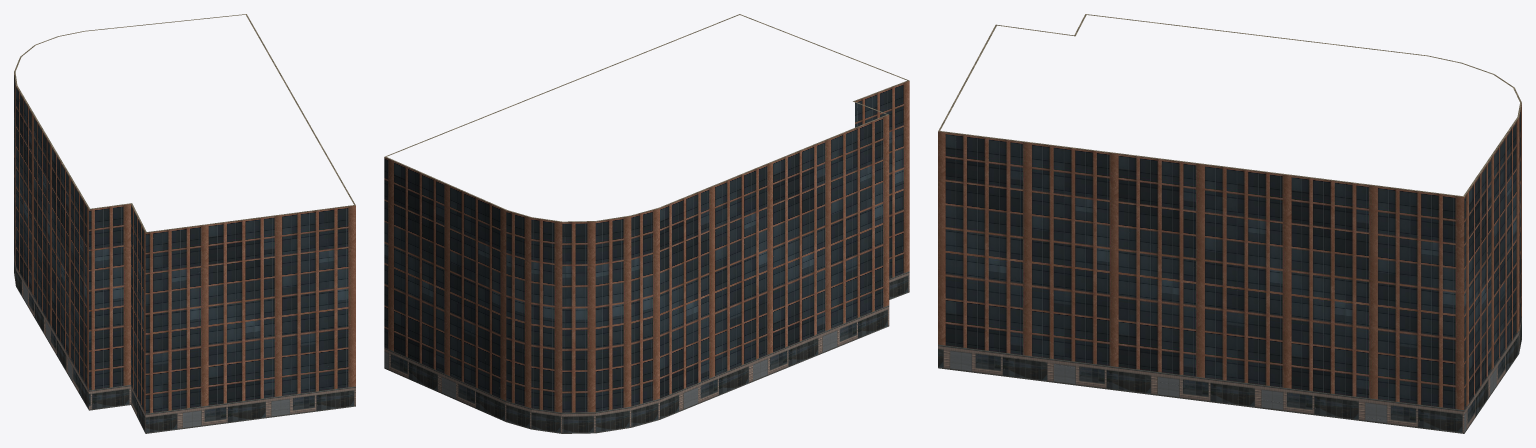
3 views of the same model, side by side, from view 1: azimuth 30°, elevation 25°; view 2: azimuth 150°, elevation 25°; view 3: azimuth 270°, elevation 25° (orthographic). The views are drawn at different scales.
Visible parts, largest first — view 1: ClayFins, PanelArcade, ConcreteRoof; view 2: ClayFins, PanelArcade, ConcreteRoof; view 3: ClayFins, PanelArcade, ConcreteRoof.
Part boxes in pixels (box(x1,y1,x2,y2)): ClayFins: box(14, 73, 355, 413); PanelArcade: box(14, 254, 355, 433); ConcreteRoof: box(14, 14, 355, 232); ClayFins: box(384, 81, 909, 412); PanelArcade: box(384, 271, 909, 433); ConcreteRoof: box(384, 14, 909, 222); ClayFins: box(938, 103, 1521, 410); PanelArcade: box(938, 317, 1521, 433); ConcreteRoof: box(938, 14, 1521, 196).
Size of the model in its own units: 58.04 by 35.01 by 78.19.
3 materials, 3 textured.
